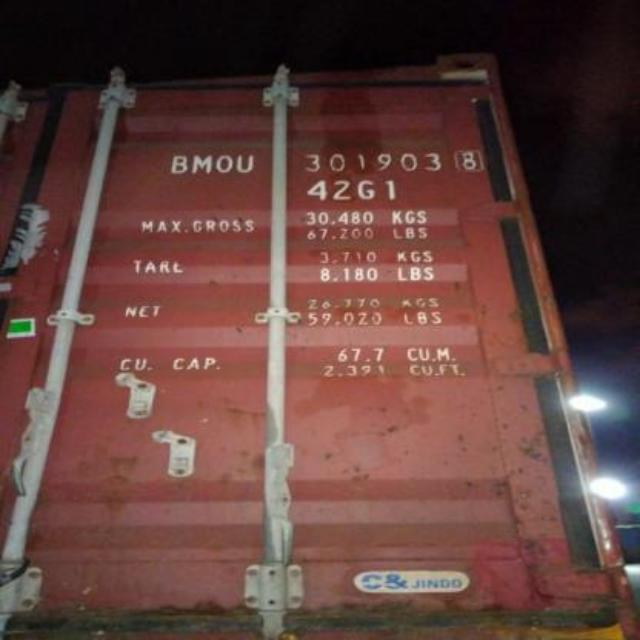0: (328, 153, 348, 174), (400, 152, 420, 172)
1: (354, 153, 370, 173)
3: (302, 154, 324, 176), (424, 152, 442, 172)
8: (459, 154, 479, 170)
9: (372, 152, 396, 174)
B: (170, 154, 190, 176)
M: (193, 155, 213, 175)
O: (213, 154, 234, 176)
U: (235, 152, 253, 175)
